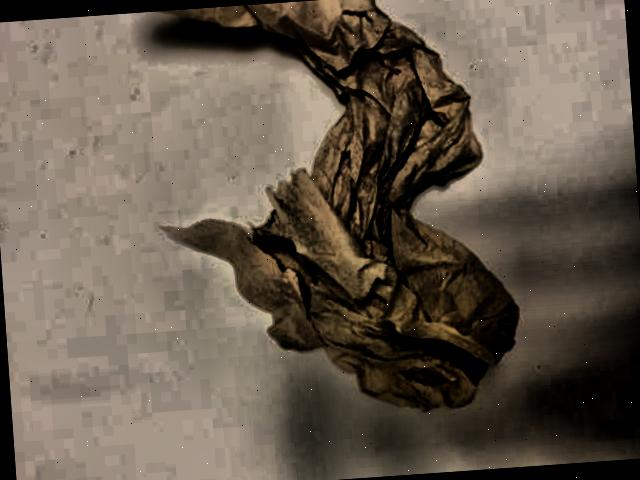Paper: (129, 0, 591, 461)
